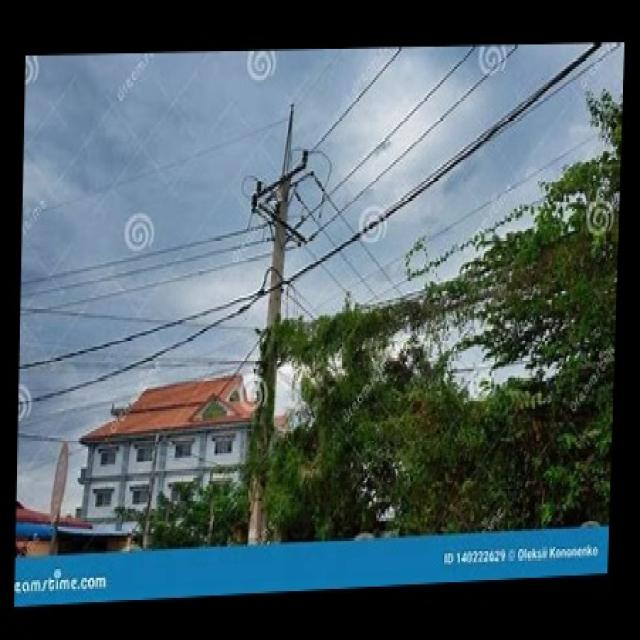critical vegetation: (272, 271, 613, 420)
